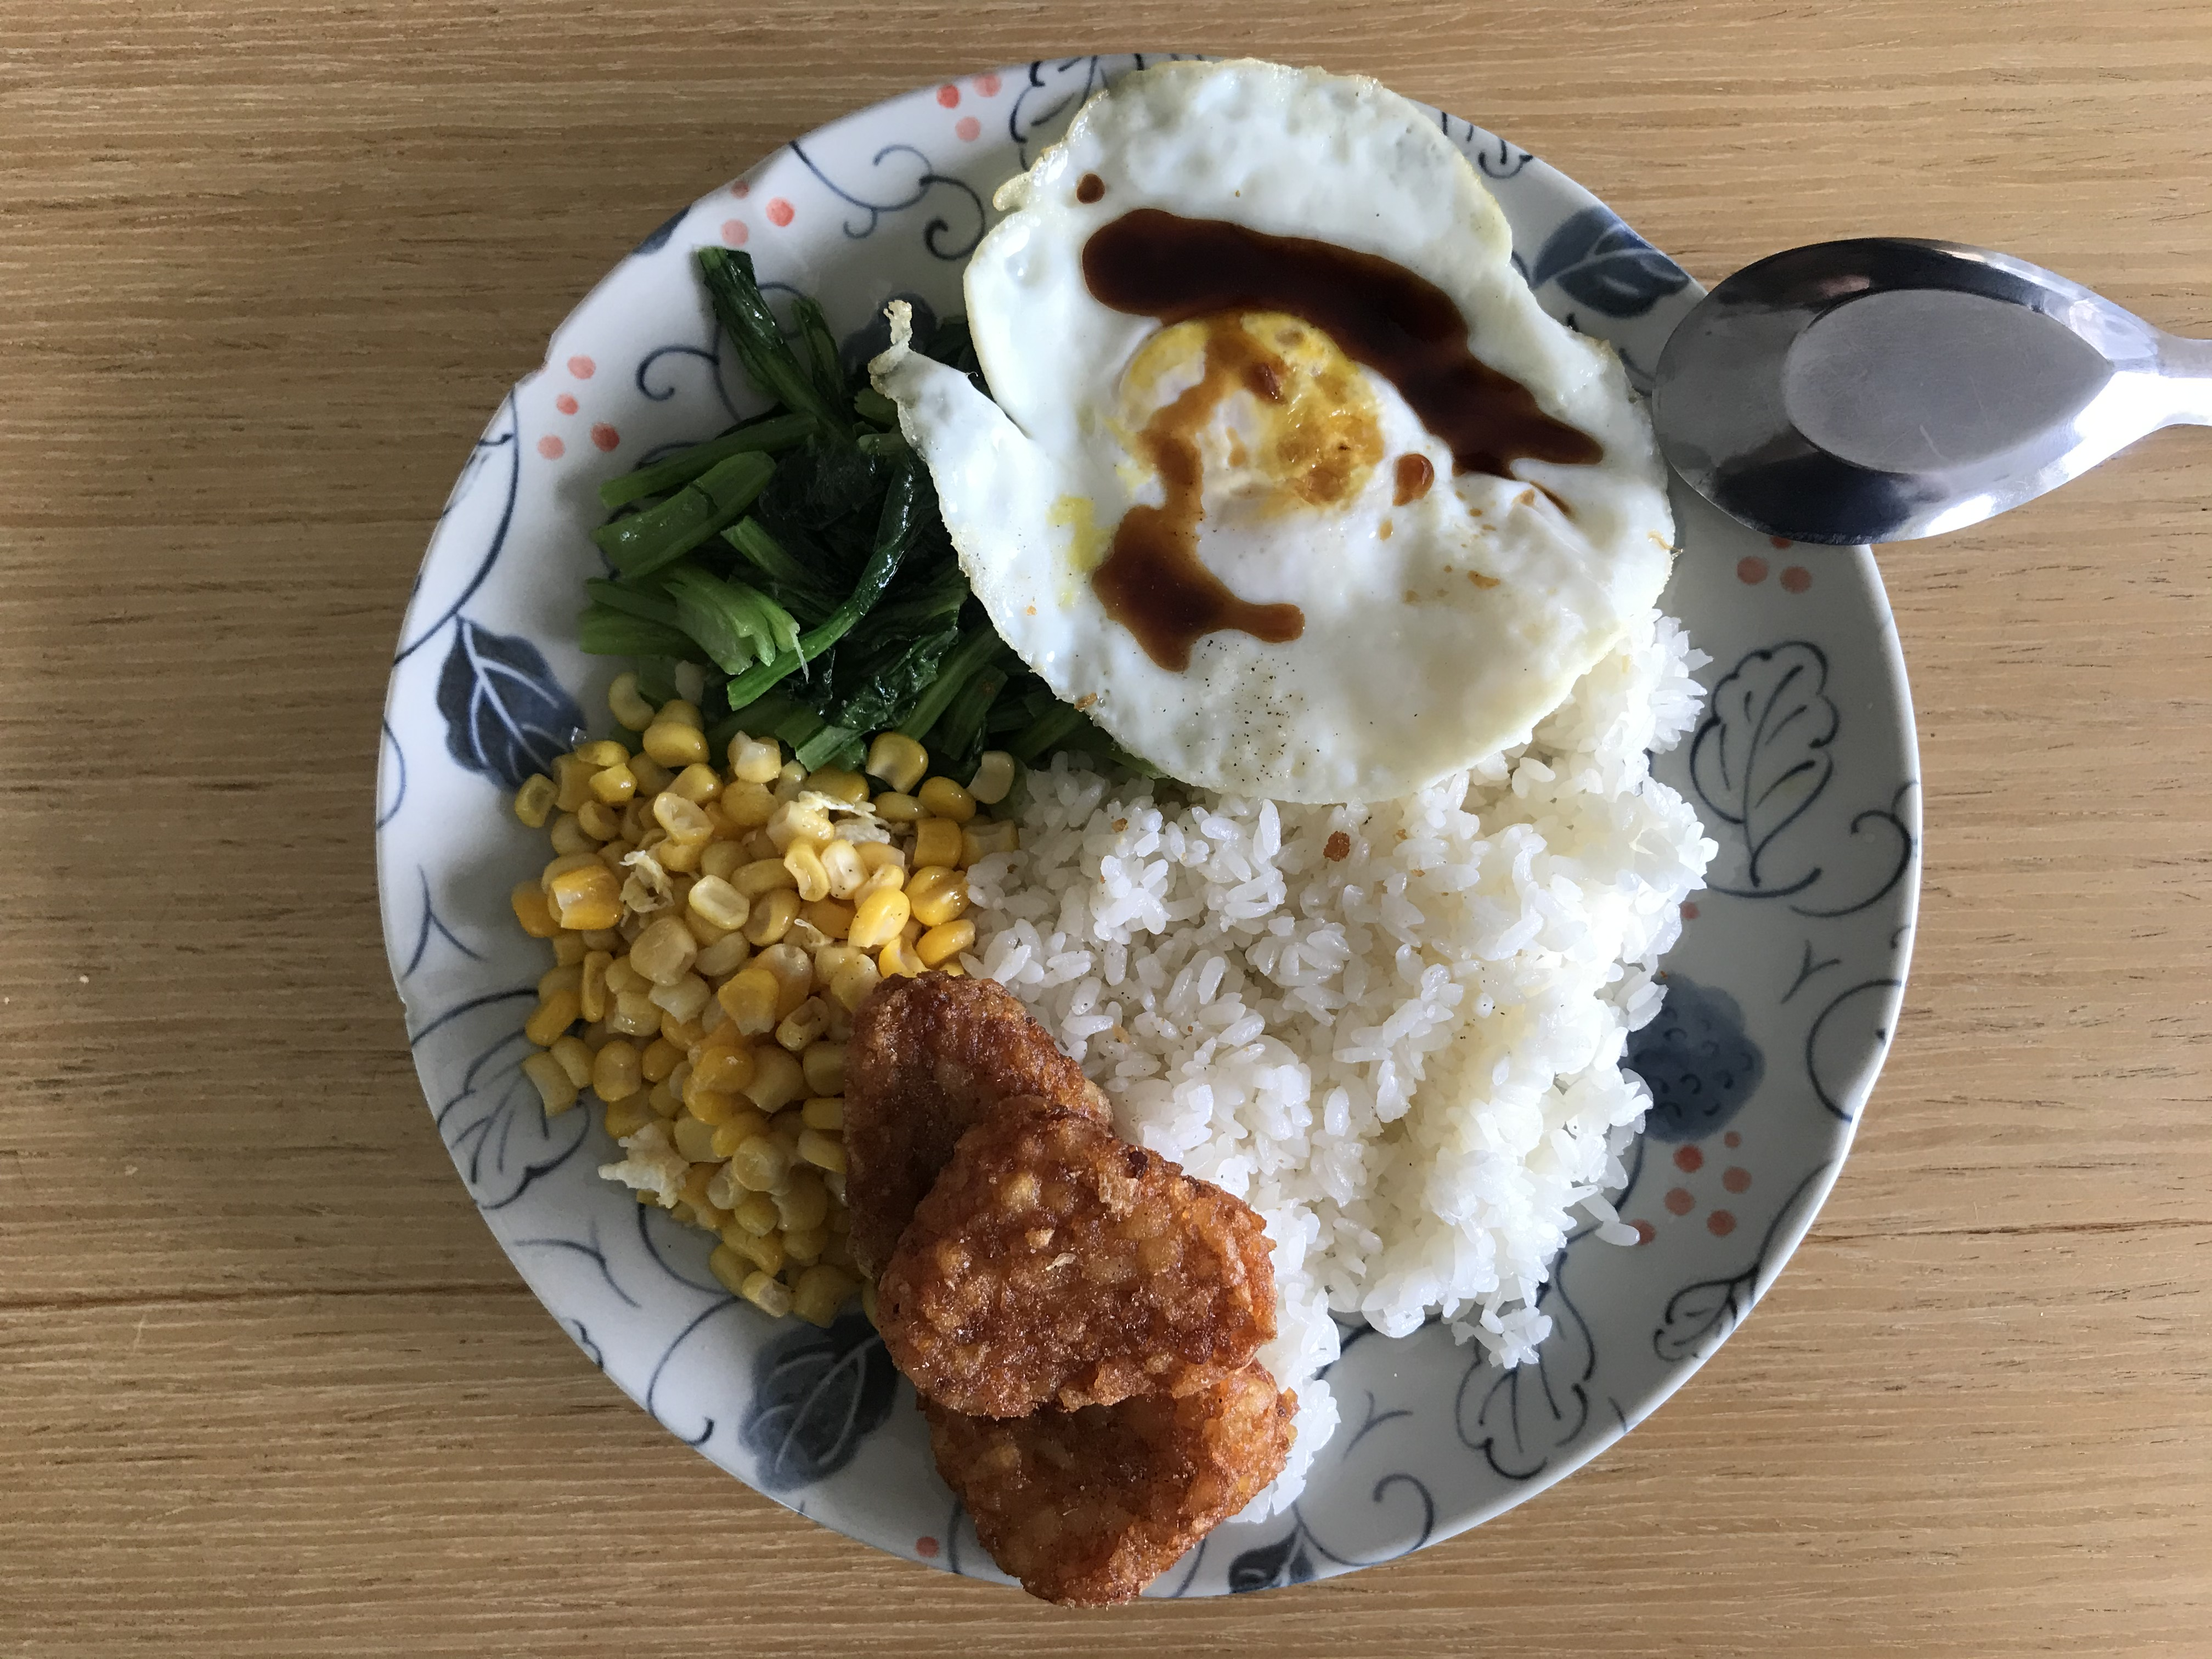fried_eggs: (935, 56, 1653, 805)
rice: (1096, 805, 1703, 1269)
triangle_hash_brown: (852, 974, 1294, 1605)
water_spinach: (622, 307, 1055, 784)
